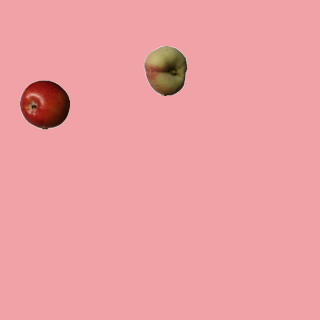Apple Braeburn: (19, 79, 69, 129)
Peach Flat: (140, 45, 190, 95)
